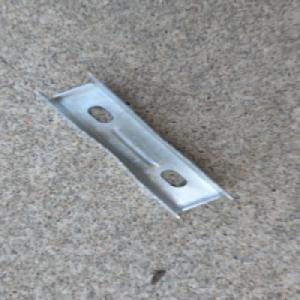ClampPart: (33, 70, 238, 220)
